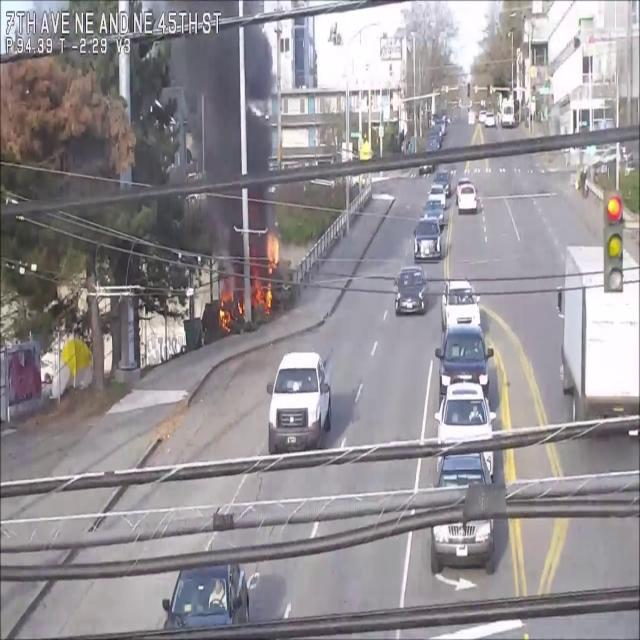Fire: (258, 226, 282, 312), (217, 288, 245, 331)
Smoke: (148, 0, 282, 281)
